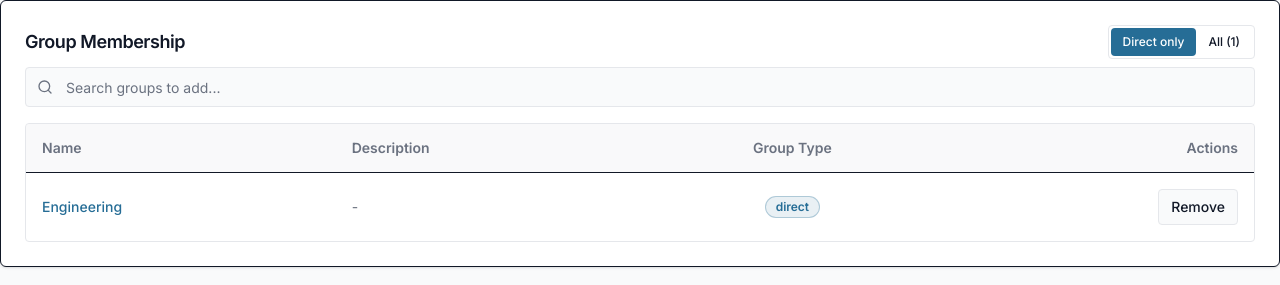
it: GroupMembership remove and add flow › asks for confirmation first, and cancelling makes no request
This screenshot has width=1280, height=285.
Click the button with aria-label "Remove from Engineering": (1198, 206) [1158, 188, 1238, 224]
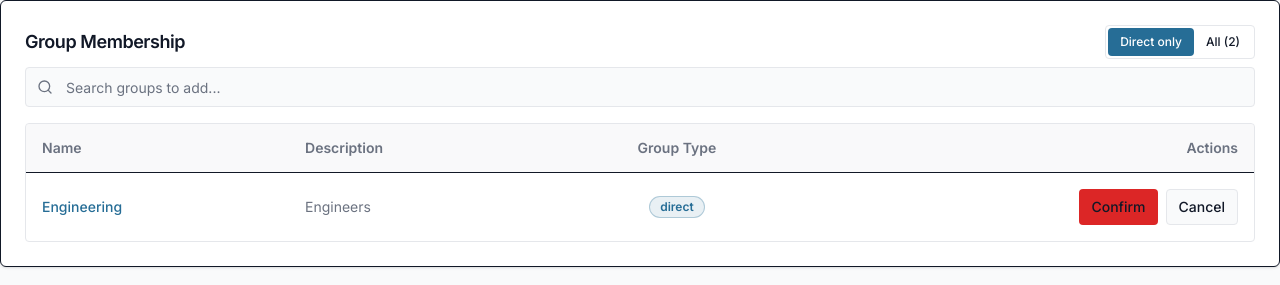
Now the button with aria-label "Confirm removing from Engineering" is shown, box [1080, 188, 1158, 224]
Click the button "Cancel": (1202, 206) [1166, 188, 1238, 224]
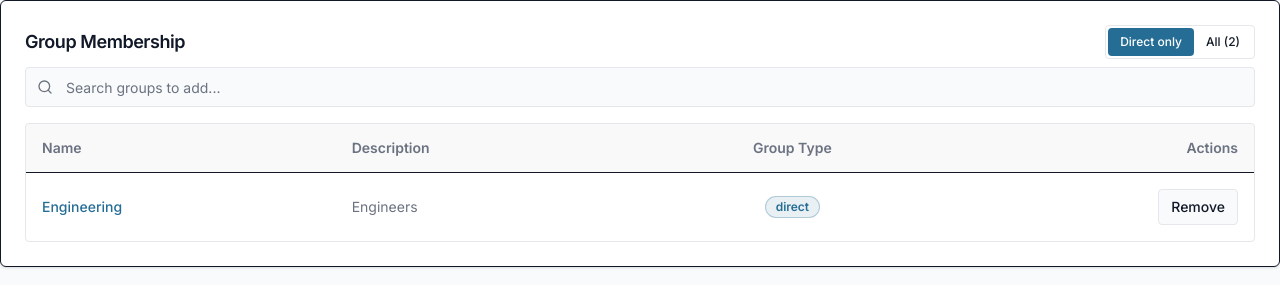
Now the button with aria-label "Remove from Engineering" is shown, box [1158, 188, 1238, 224]
